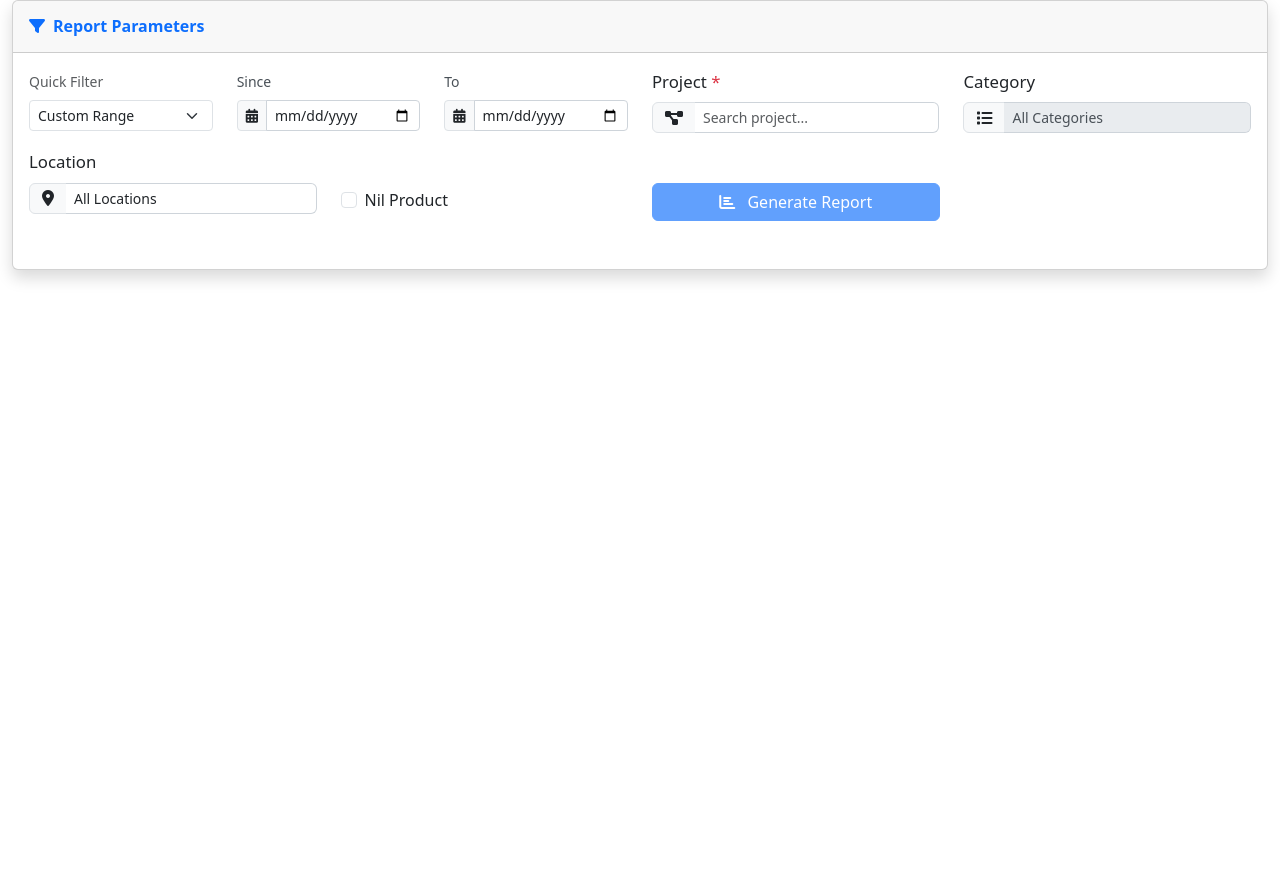
ProductReport stock breakdown › freezes paging parameters while users edit the next report filters
The width and height of the screenshot is (1280, 896).
In the field labelled "project": (817, 118) [695,102,940,133], type "Project One"
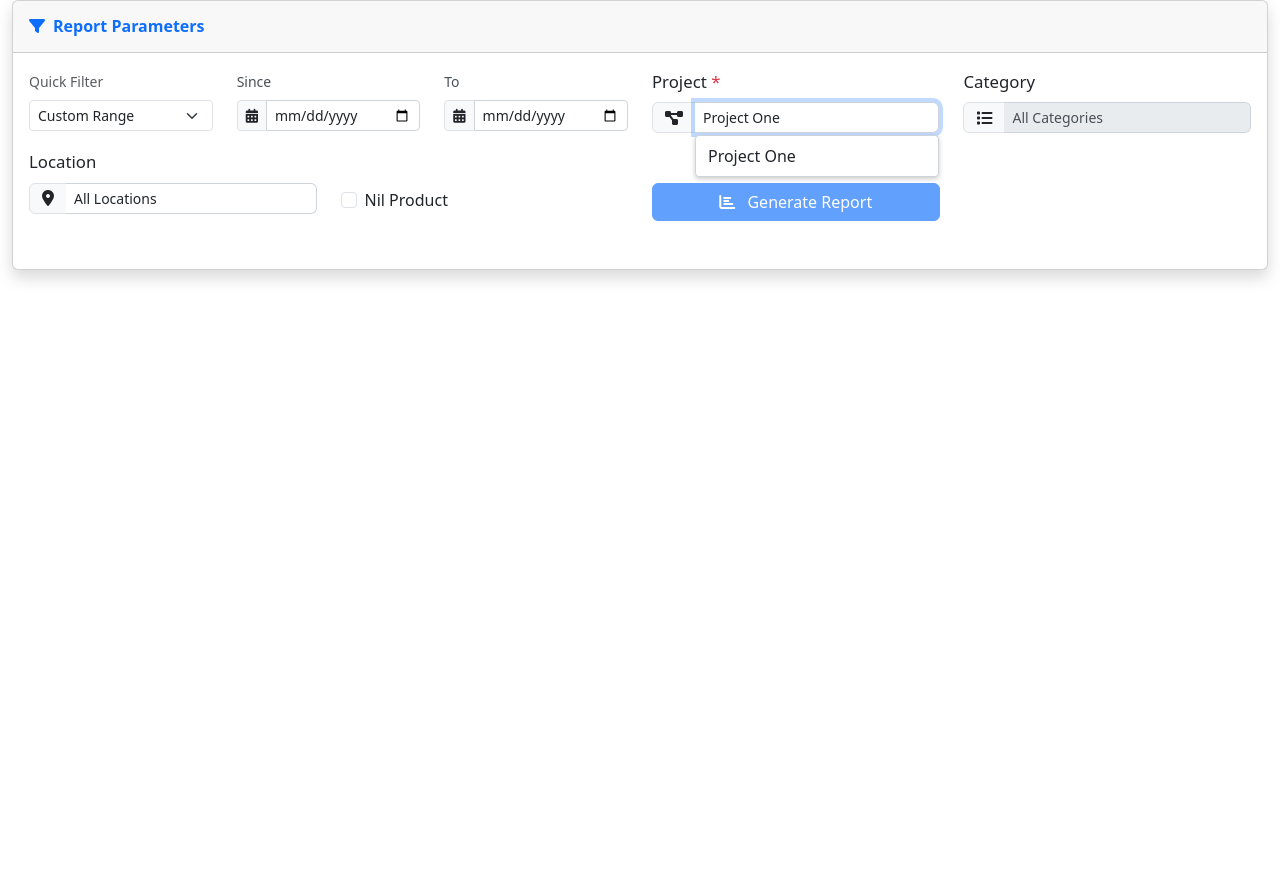
Click the text "Project One": (752, 156) [708,145,796,167]
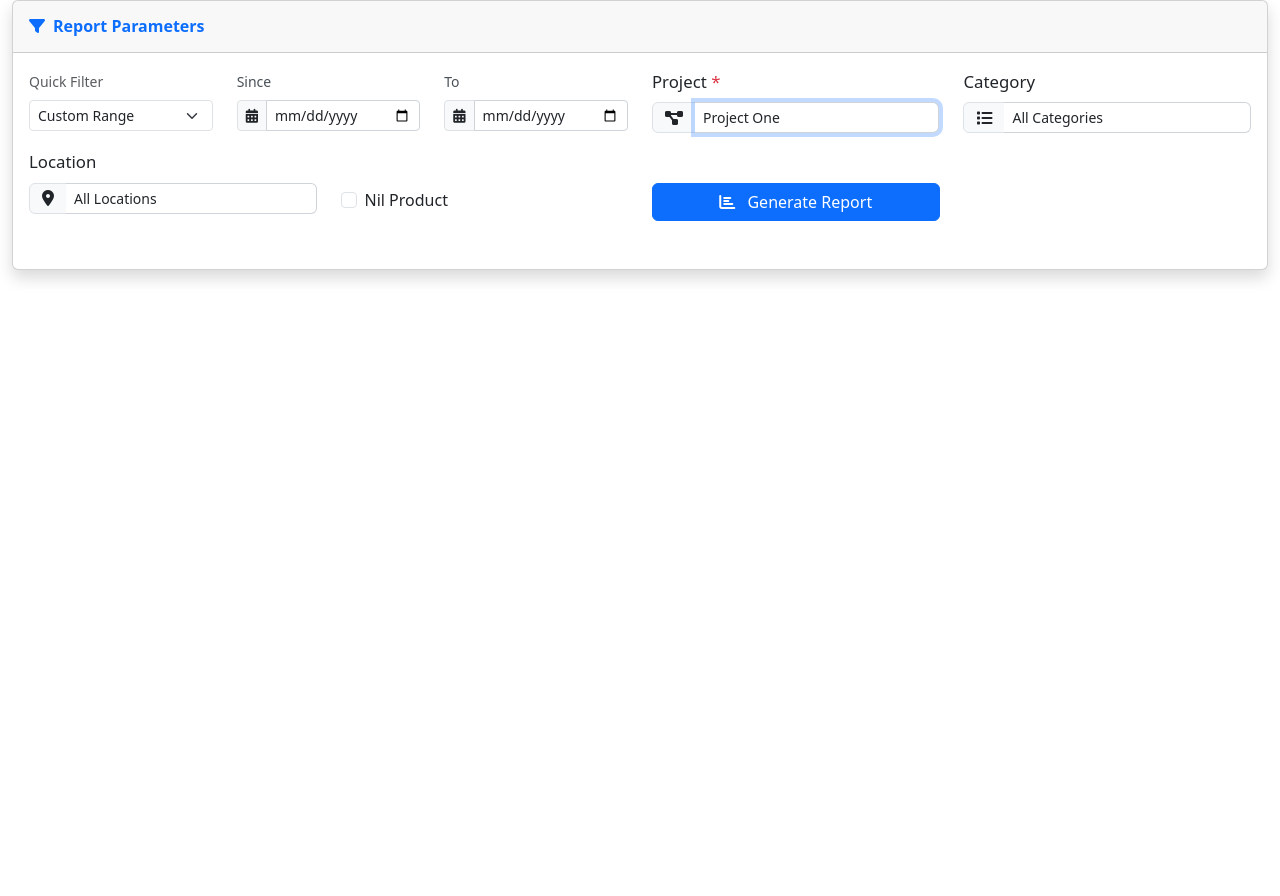
Click the button "Generate Report": (796, 202) [652,183,940,221]
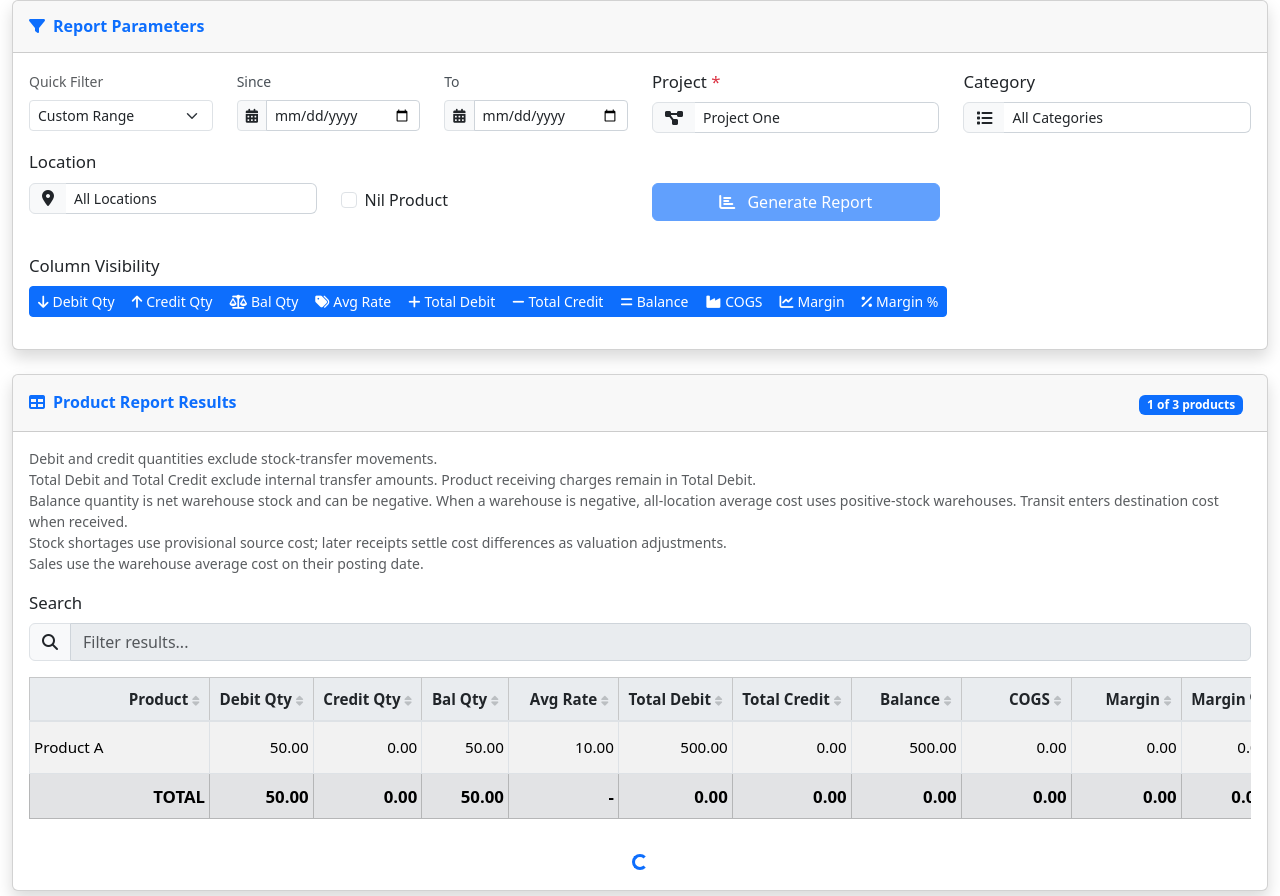
Replace the text in the field named "location" with "Warehouse X": (191, 198) [66,183,316,214]
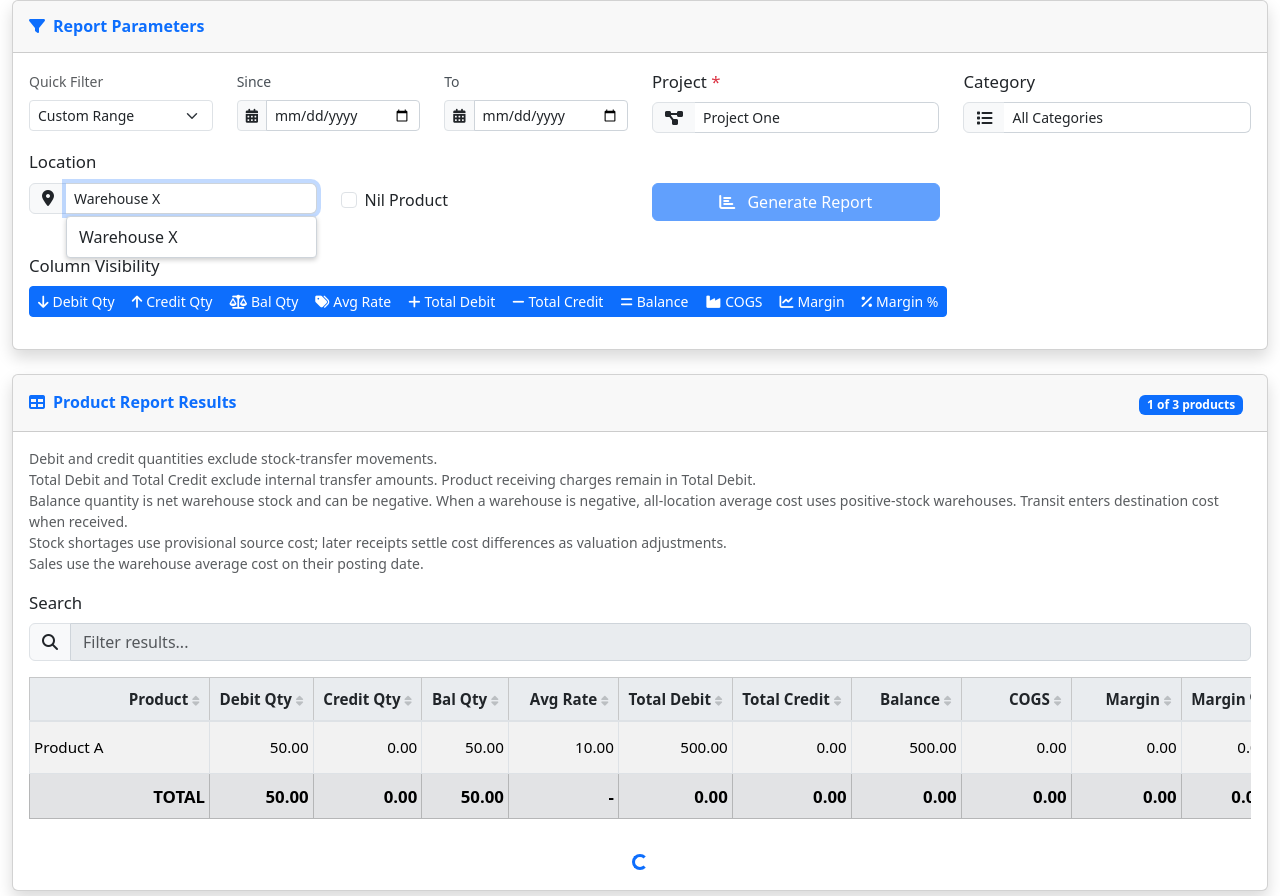
Click the text "Warehouse X": (128, 237) [79,226,178,248]
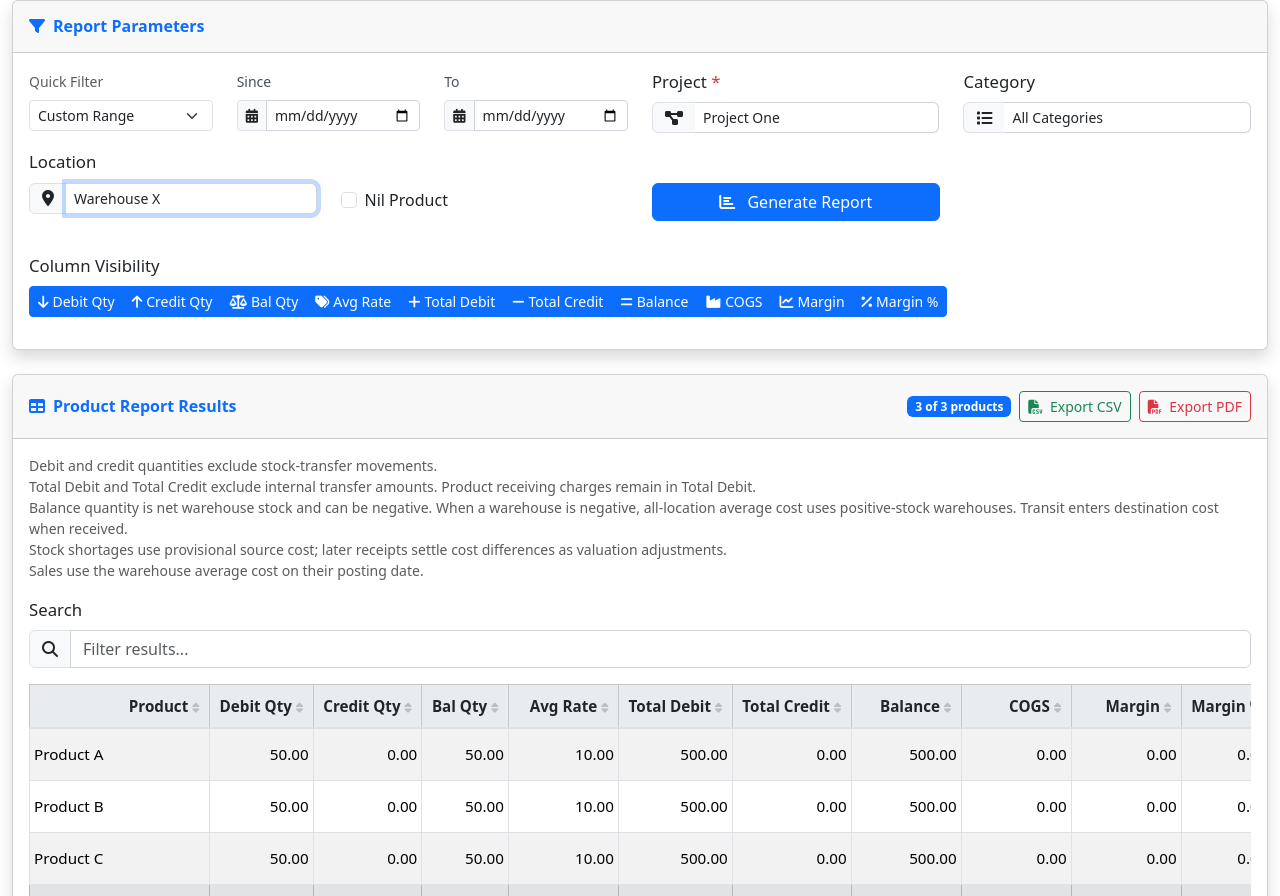
expect the text "Debit and credit quantities exclude stock-transfer movements." is shown: met, box [29,456,437,475]
expect the text "Product C" is shown: met, box [30,832,210,884]
